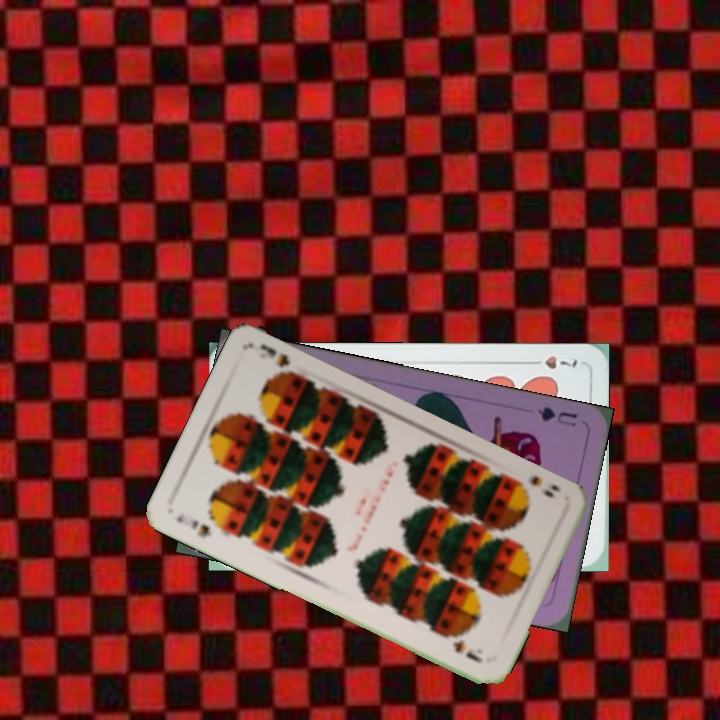GU: (534, 402, 580, 429)
H7: (524, 352, 580, 372)
S9: (172, 510, 215, 540), (523, 471, 564, 501)
